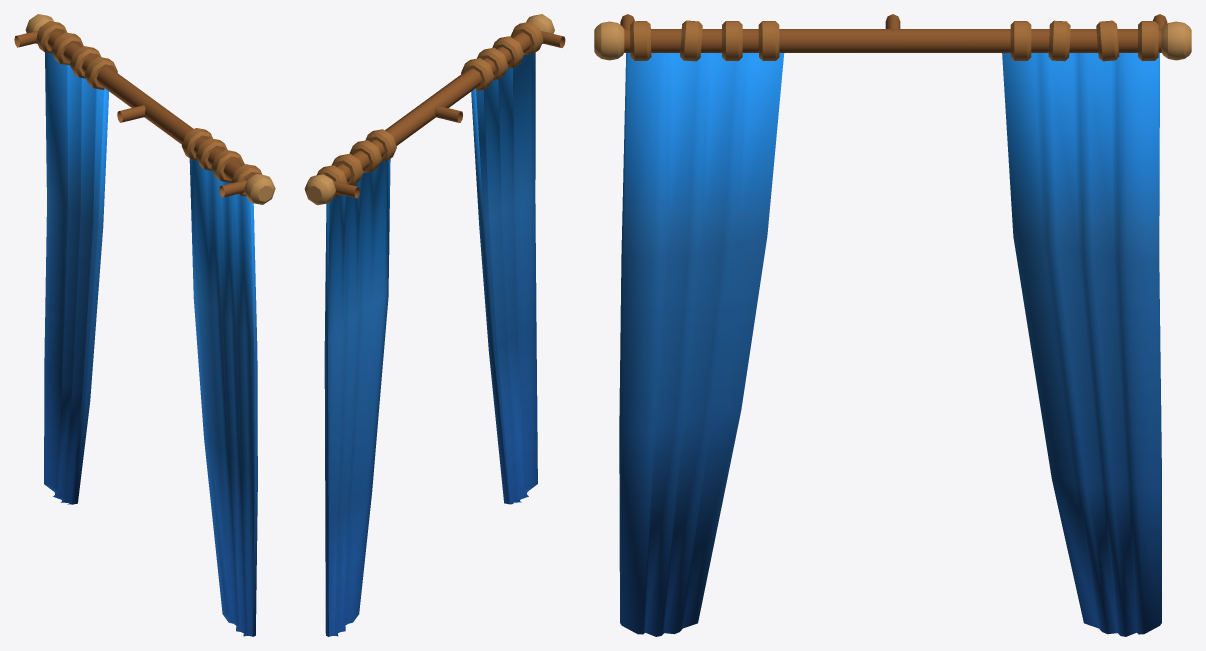
The model's file is Curtains_Long_1_D_H.glb.
The picture shows the model from 3 angles, left to right: view 1: azimuth 30°, elevation 25°; view 2: azimuth 150°, elevation 25°; view 3: azimuth 270°, elevation 25°; orthographic projection. The views are drawn at different scales.
Visible parts, largest first — view 1: Curtains_Long_1_D_H; view 2: Curtains_Long_1_D_H; view 3: Curtains_Long_1_D_H.
Part boxes in pixels (<box>): Curtains_Long_1_D_H: <box>14,14,275,636</box>; Curtains_Long_1_D_H: <box>304,14,565,636</box>; Curtains_Long_1_D_H: <box>594,14,1191,636</box>.
Bounding box in the file's own units: 0.2268 × 2.28 × 2.02.
1 material, 1 textured.
